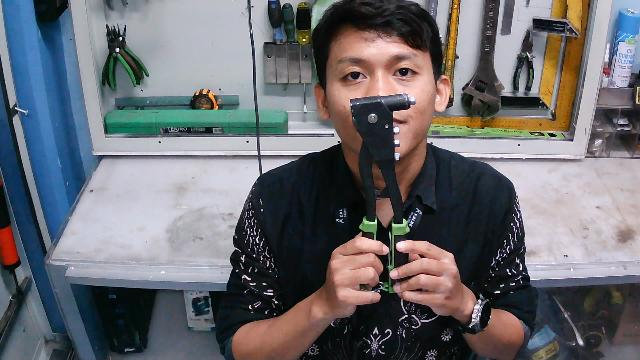tang_rivet: (345, 91, 419, 295)
